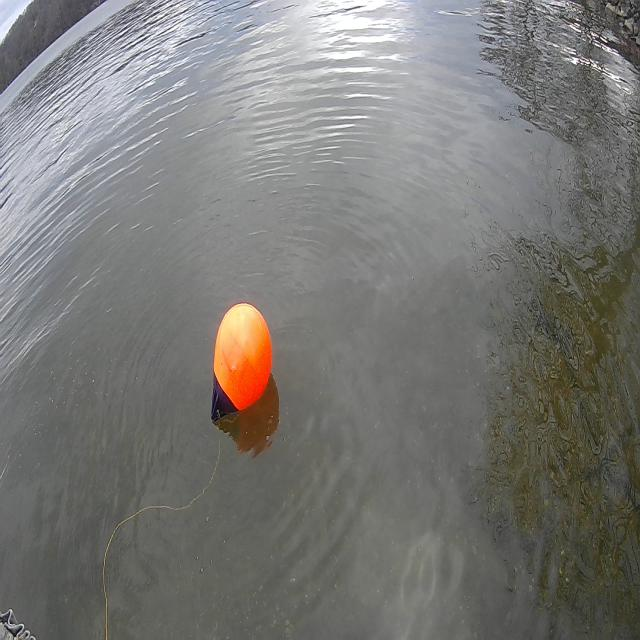Buoy: (204, 289, 279, 437)
